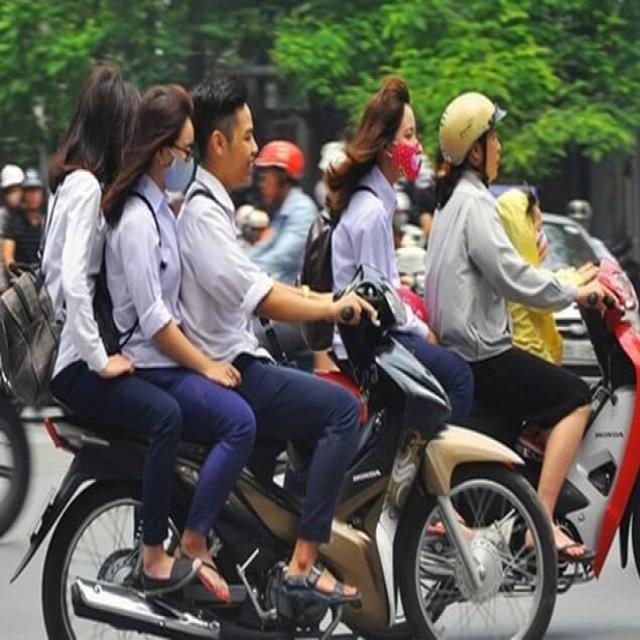helmet: (439, 90, 507, 165)
no_helmet: (61, 53, 135, 181), (192, 70, 262, 192), (355, 71, 425, 188), (138, 76, 198, 194)
